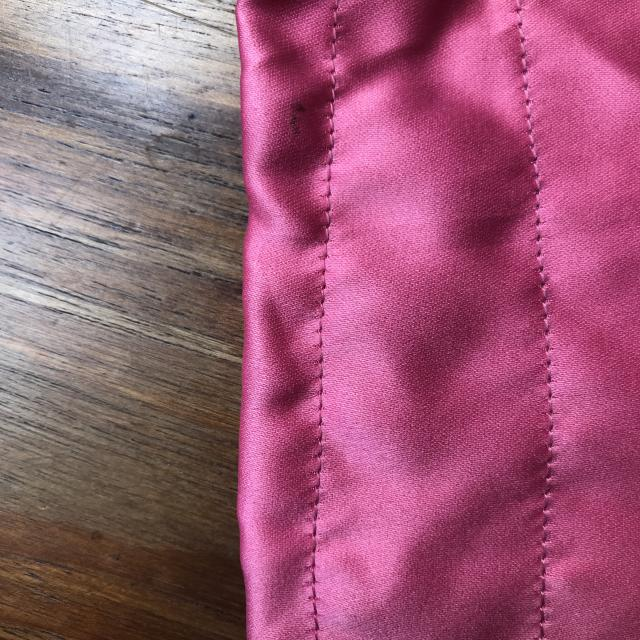good: (323, 60, 345, 172)
